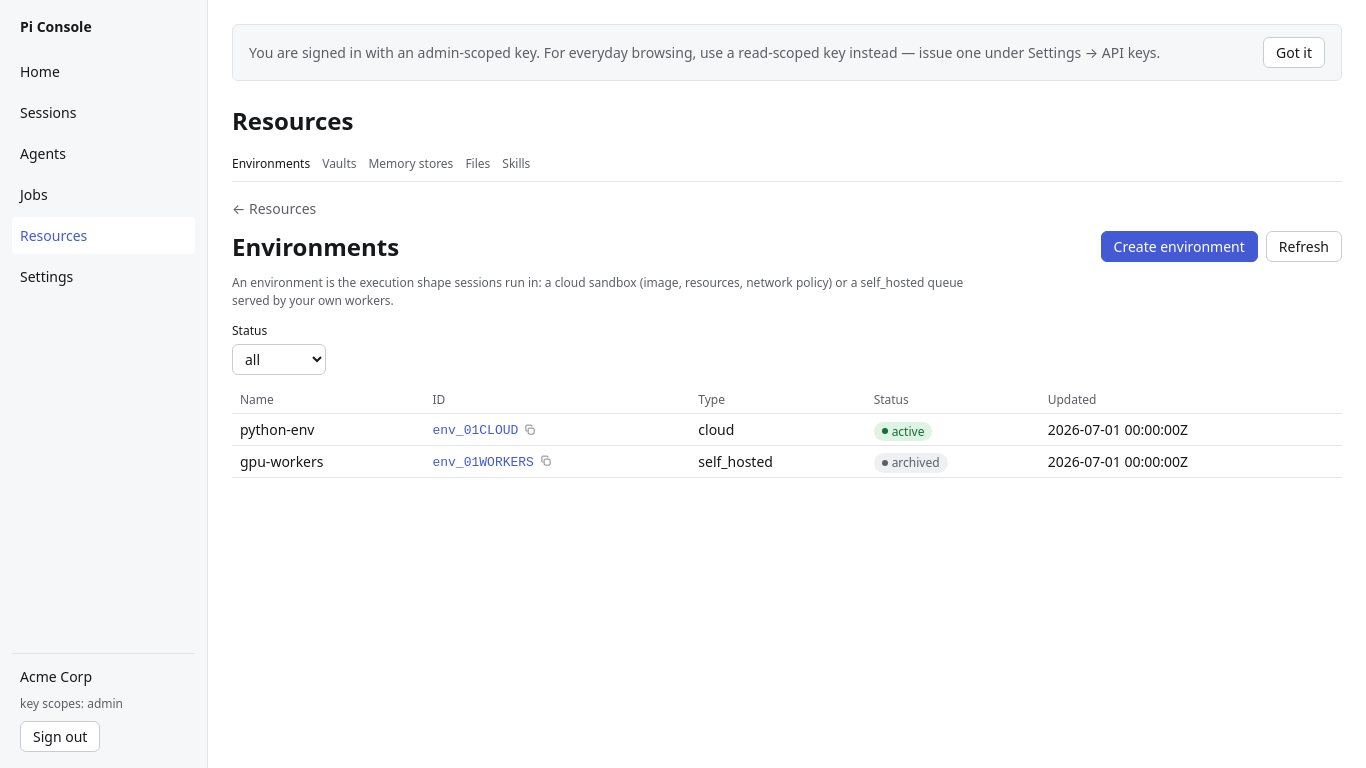
Test: environments list (§9.2) › status filter narrows server-side via ?status= (not client-side)
The width and height of the screenshot is (1366, 768).
Expected: the table named "Environments" is shown, [232,387,1342,478]
Select "archived" in the dropdown labelled "Status" at (279, 360), box [232,344,326,375]
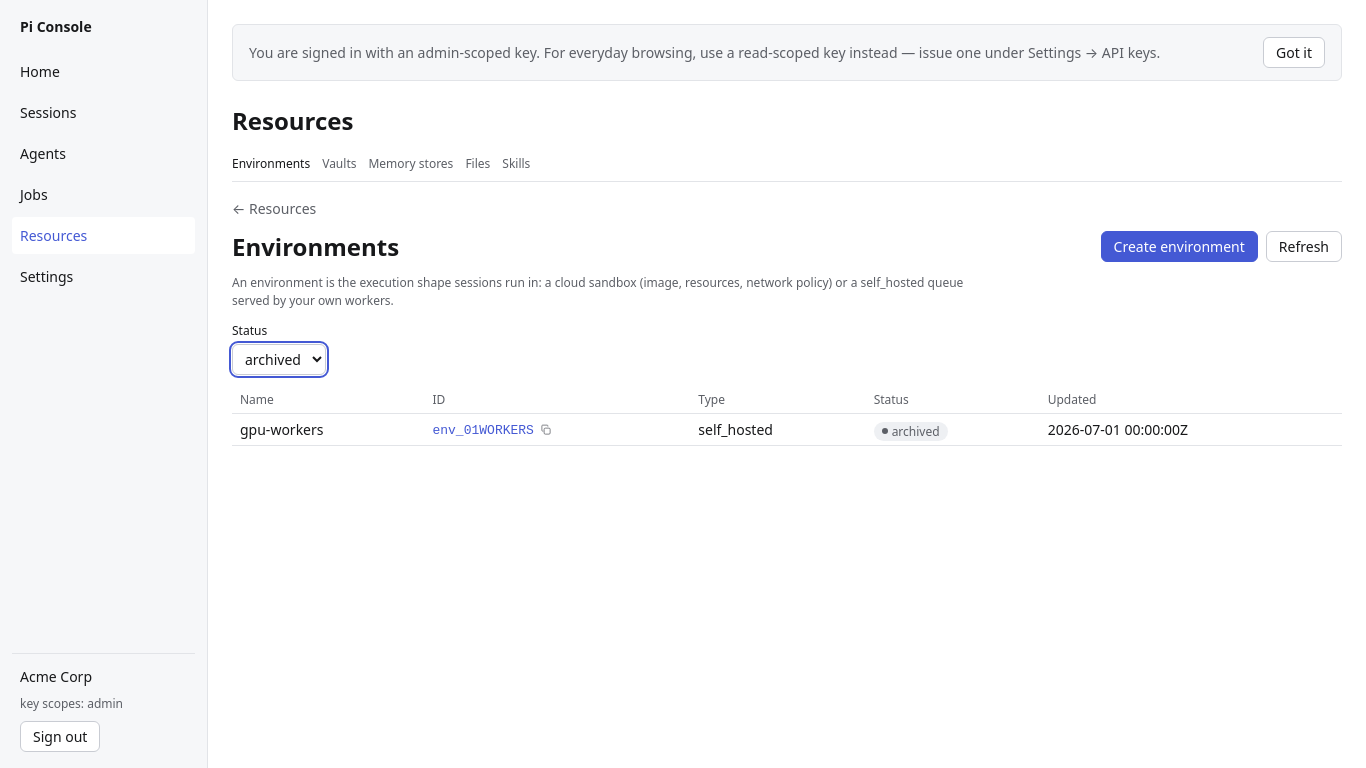
Expected: the text "gpu-workers" is shown, [232,414,424,446]
Expected: the text "python-env" is gone
